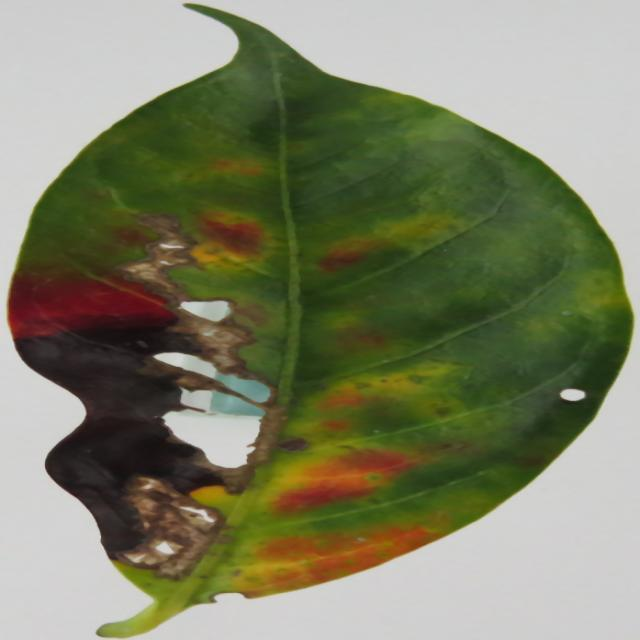DeficienciaNutricional-Fosforo: (8, 8, 628, 581)
